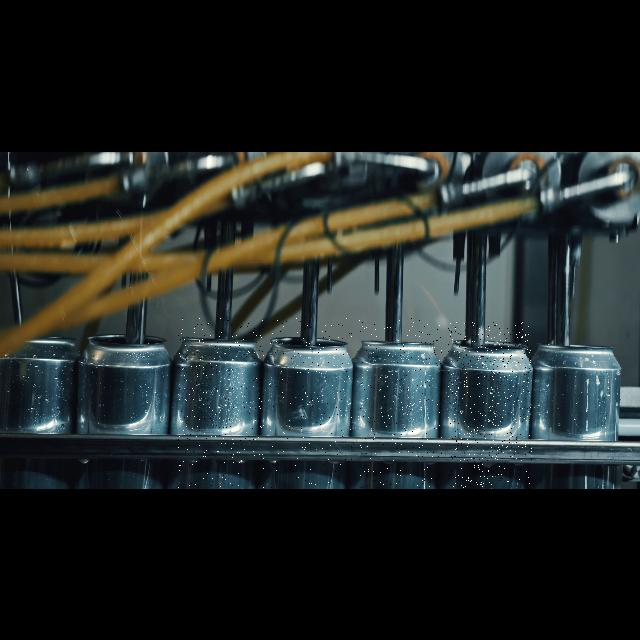empty: (80, 318, 174, 488), (178, 318, 264, 488), (268, 318, 352, 488), (358, 318, 442, 488), (448, 322, 532, 488), (538, 326, 620, 488)
